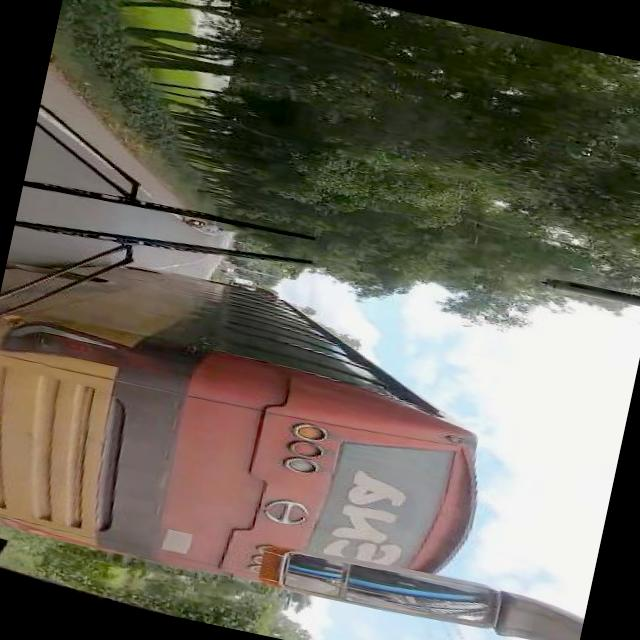bus: (0, 233, 517, 626)
motorcycle: (188, 221, 210, 230)
